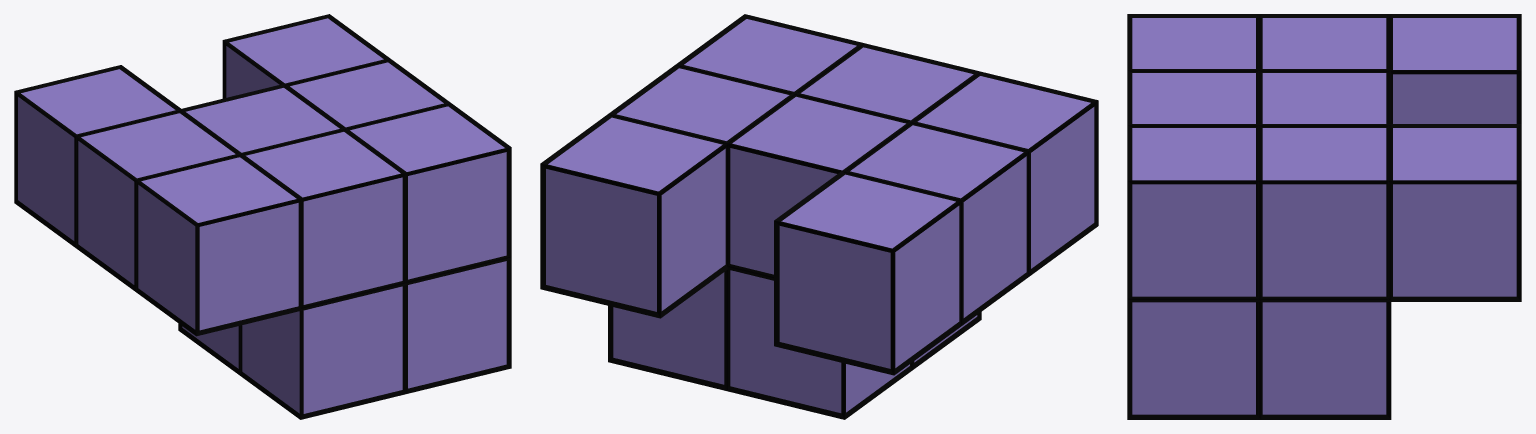
The picture shows the model from 3 angles, left to right: view 1: azimuth 30°, elevation 25°; view 2: azimuth 150°, elevation 25°; view 3: azimuth 270°, elevation 25°; orthographic projection. The views are drawn at different scales.
Parts seen in each view (by area): view 1: b1:Mesh; view 2: b1:Mesh; view 3: b1:Mesh.
Boxes of the visible parts, left/top/right/bottom form: b1:Mesh: left=14, top=14, right=511, bottom=419; b1:Mesh: left=540, top=14, right=1098, bottom=419; b1:Mesh: left=1127, top=14, right=1521, bottom=419.
Bounding box in the file's own units: 6.06 × 4.06 × 6.06.
